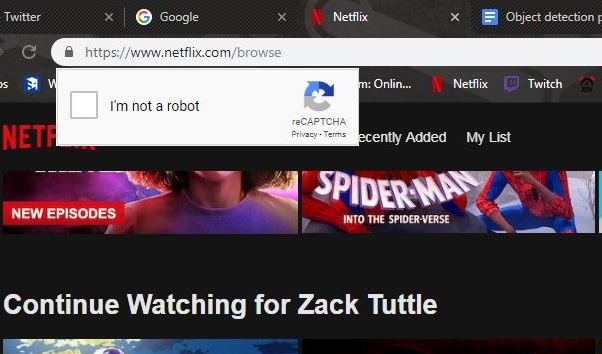captcha: (70, 91, 204, 119)
